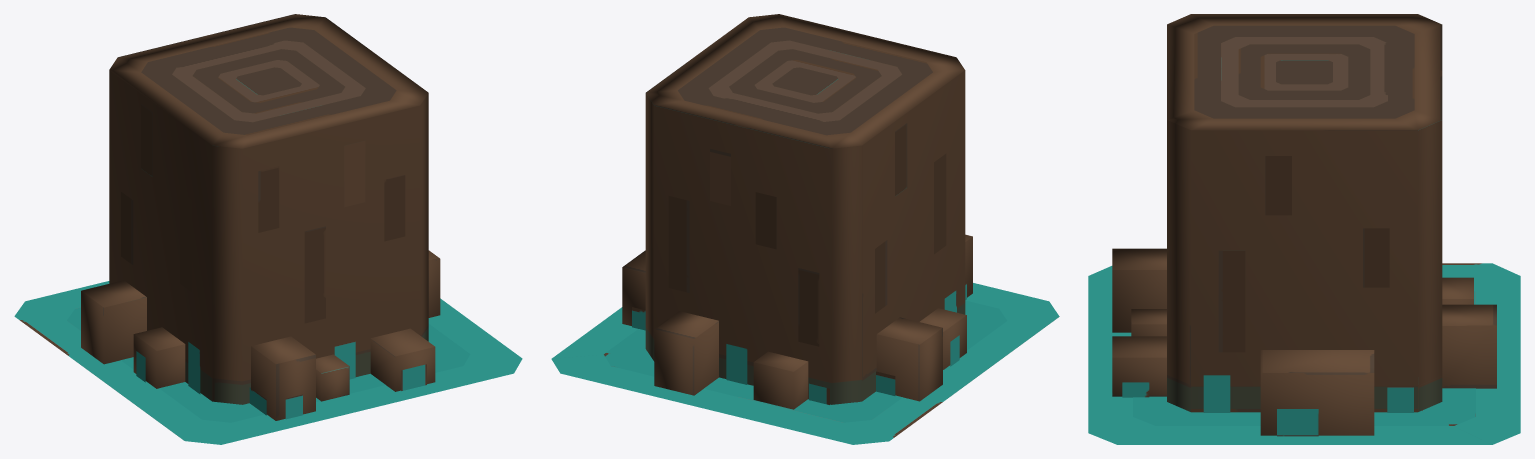
File: B_forest1_rock01.fbx
The picture shows the model from 3 angles, left to right: view 1: azimuth 30°, elevation 25°; view 2: azimuth 150°, elevation 25°; view 3: azimuth 270°, elevation 25°; orthographic projection. The views are drawn at different scales.
Visible parts, largest first — view 1: model 1, model; view 2: model 1, model; view 3: model 1, model.
Part boxes in pixels (box(x1,y1,x2,y2)): model 1: box(14, 14, 522, 444); model: box(67, 307, 470, 422); model 1: box(551, 14, 1059, 444); model: box(604, 300, 1006, 422); model 1: box(1088, 14, 1520, 444); model: box(1133, 291, 1475, 425).
Bounding box in the file's own units: 3.11 × 2.27 × 3.12.
